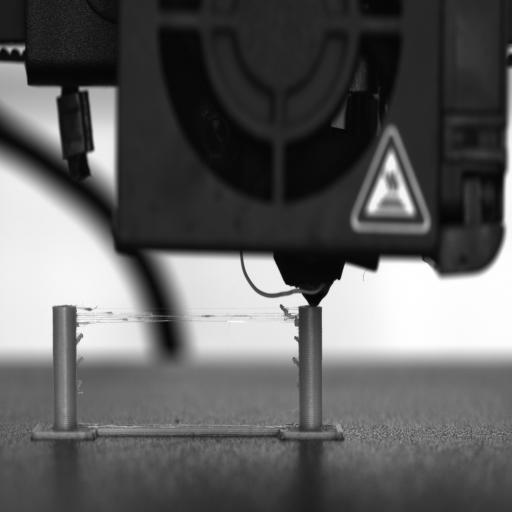spaghetti_and_stringing: (76, 303, 299, 330), (275, 300, 300, 344), (74, 375, 87, 396), (76, 351, 86, 369), (290, 356, 300, 370), (293, 376, 301, 392), (76, 328, 83, 346)
